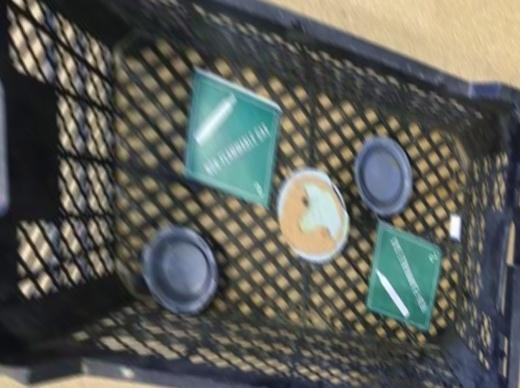non-flammable-gas: (183, 67, 276, 201), (363, 218, 442, 332)
